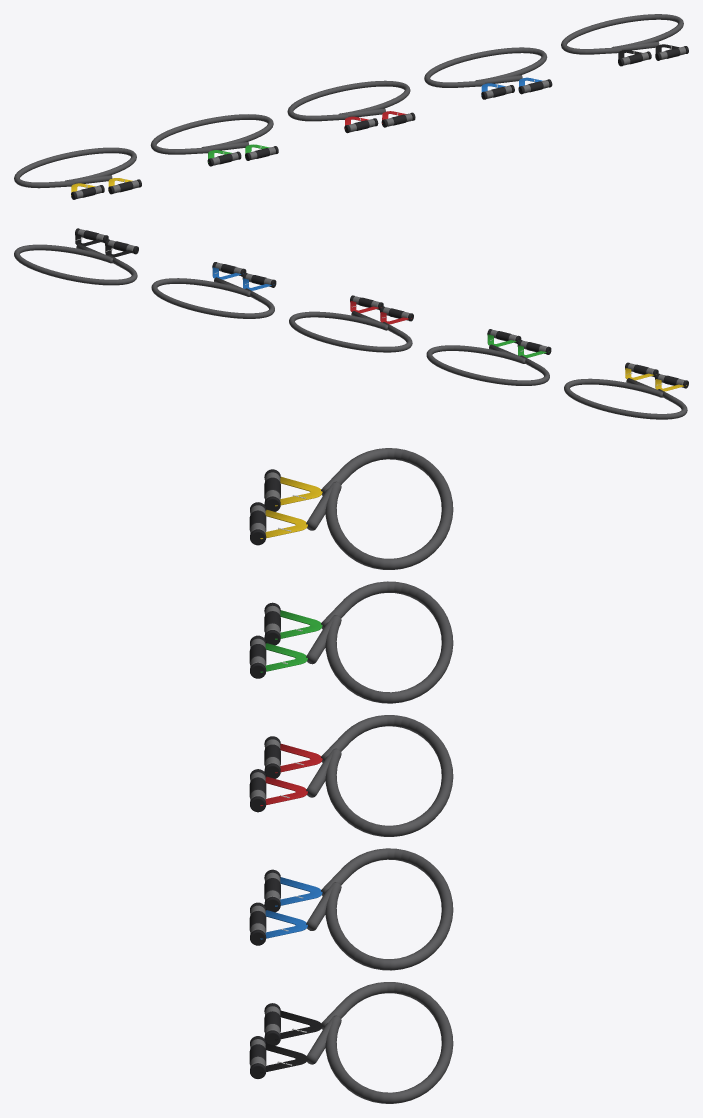
File: life-fitness-resistance-tubes_v002.glb
3 views of the same model, one above another, from view 1: azimuth 30°, elevation 25°; view 2: azimuth 150°, elevation 25°; view 3: azimuth 270°, elevation 25° (orthographic). The views are drawn at different scales.
Parts seen in each view (by area): view 1: life-fitness-resistance-tubes_sleeve, life-fitness-resistance-tubes_capr, life-fitness-resistance-tubes_grip, life-fitness-resistance-tubes_capr.001; view 2: life-fitness-resistance-tubes_sleeve, life-fitness-resistance-tubes_capr, life-fitness-resistance-tubes_grip, life-fitness-resistance-tubes_capr.001; view 3: life-fitness-resistance-tubes_sleeve, life-fitness-resistance-tubes_capr.001, life-fitness-resistance-tubes_capr, life-fitness-resistance-tubes_grip, life-fitness-resistance-tubes_green, life-fitness-resistance-tubes_blue, life-fitness-resistance-tubes_red, life-fitness-resistance-tubes_yellow, life-fitness-resistance-tubes_black.
Part boxes in pixels (box(x1,y1,x2,y2)): life-fitness-resistance-tubes_sleeve: box(14, 14, 683, 188); life-fitness-resistance-tubes_capr: box(80, 48, 680, 197); life-fitness-resistance-tubes_grip: box(75, 46, 686, 198); life-fitness-resistance-tubes_capr.001: box(71, 46, 688, 199); life-fitness-resistance-tubes_sleeve: box(14, 244, 687, 419); life-fitness-resistance-tubes_capr: box(83, 230, 678, 385); life-fitness-resistance-tubes_grip: box(77, 229, 684, 387); life-fitness-resistance-tubes_capr.001: box(75, 228, 688, 388); life-fitness-resistance-tubes_sleeve: box(306, 448, 453, 1103); life-fitness-resistance-tubes_capr.001: box(250, 469, 280, 1078); life-fitness-resistance-tubes_capr: box(249, 477, 280, 1064); life-fitness-resistance-tubes_grip: box(250, 472, 280, 1067); life-fitness-resistance-tubes_green: box(260, 610, 322, 672); life-fitness-resistance-tubes_blue: box(260, 877, 322, 939); life-fitness-resistance-tubes_red: box(260, 743, 322, 806); life-fitness-resistance-tubes_yellow: box(260, 476, 322, 539); life-fitness-resistance-tubes_black: box(260, 1010, 322, 1073).
Bounding box in the file's own units: 3.16 × 0.0346 × 0.4192.
